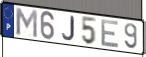5: (80, 15, 98, 46)
6: (40, 10, 56, 41)
9: (123, 22, 138, 50)
E: (100, 18, 120, 49)
J: (61, 16, 76, 42)
M: (14, 6, 39, 39)
